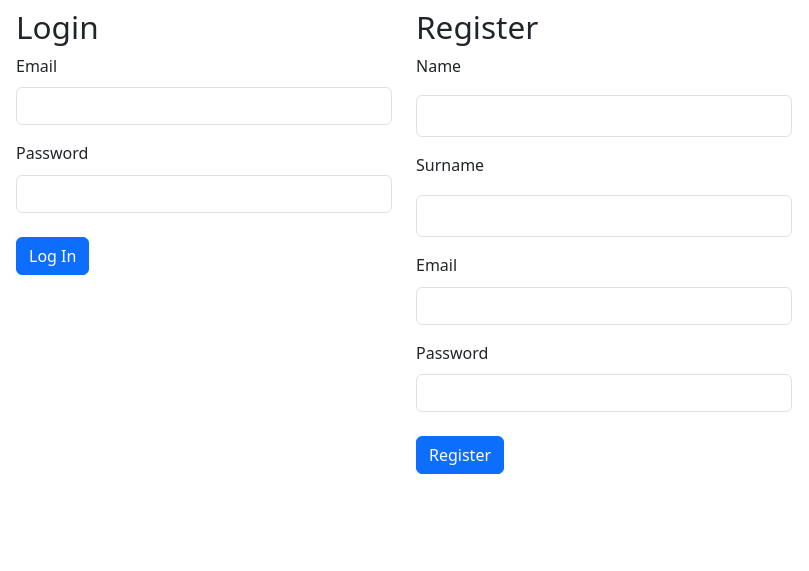
Test: Auth Page Tests › Registration Tests › should show validation errors for missing required fields
Click the button with test id "submit-button" at (460, 455), box [416,436,504,474]
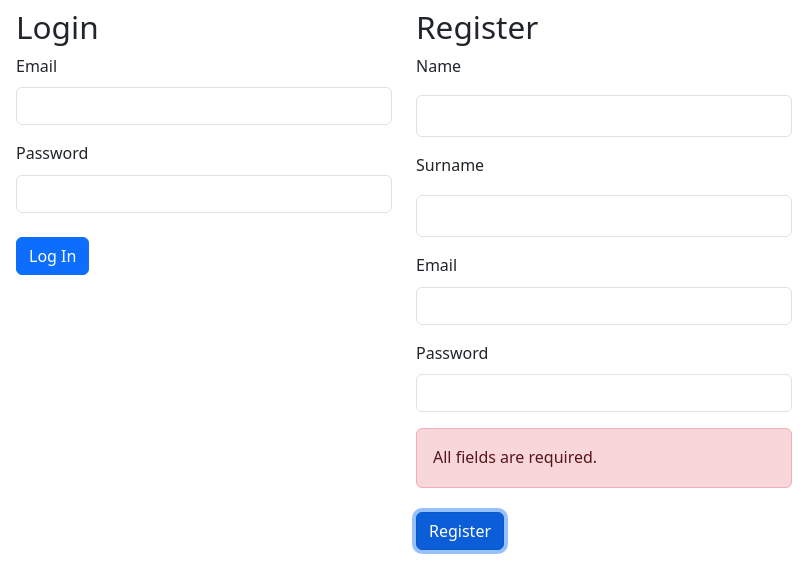
Expected: the text "All fields are required." is shown, [416,428,792,488]
Expected: the text with test id "error-message" reads "All fields are required.", [433,446,597,468]
